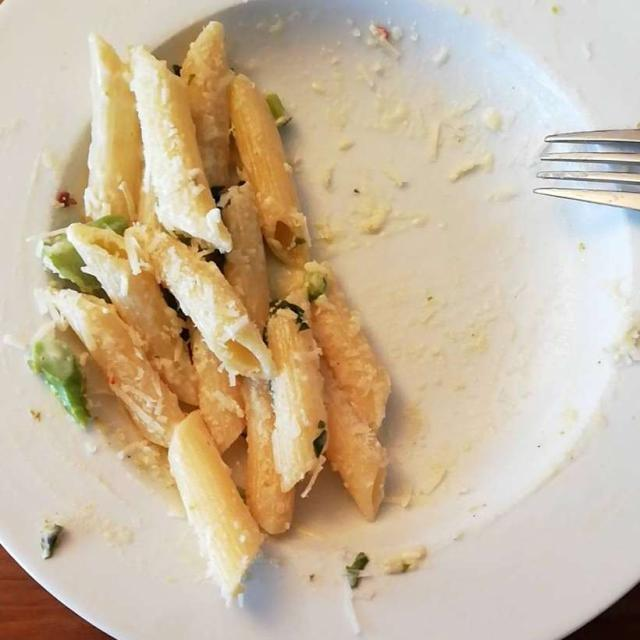pasta: (42, 33, 389, 580)
